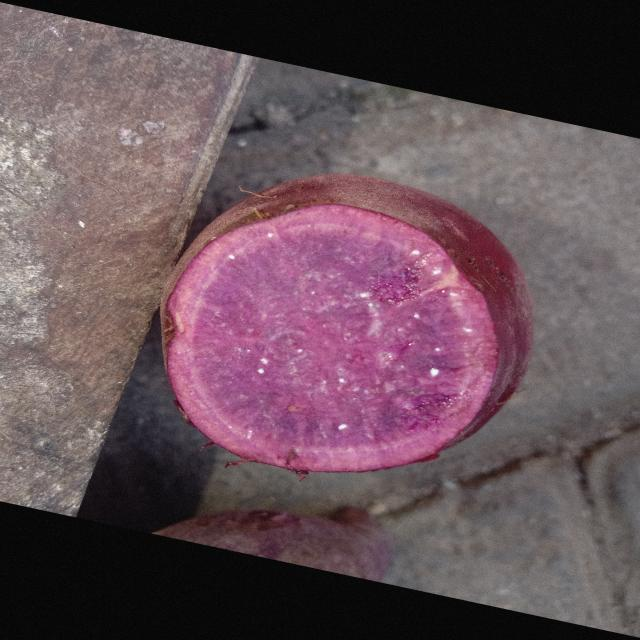Healthy Sweet Potato: (167, 205, 498, 471)
